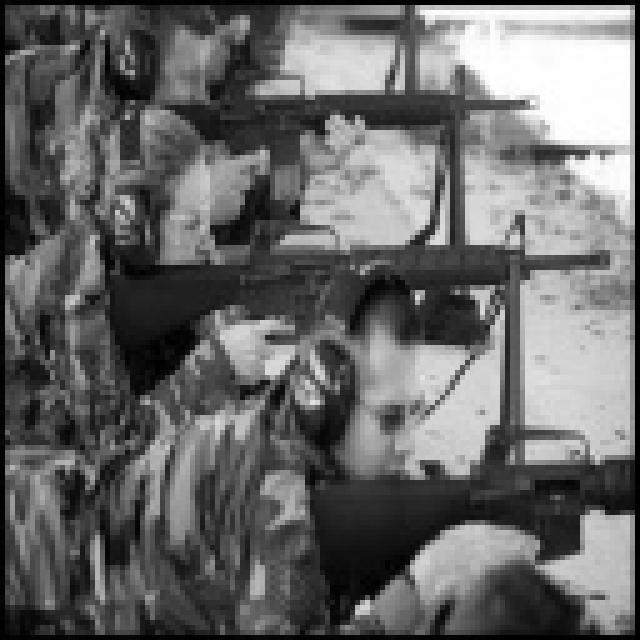Rifle: (82, 208, 626, 461), (135, 0, 545, 220), (265, 384, 640, 612)
